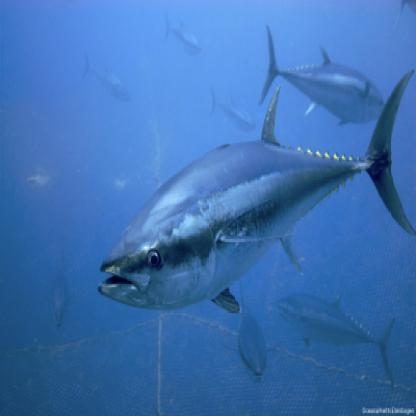tuna: (96, 65, 415, 315), (255, 21, 390, 130), (272, 284, 405, 391)
